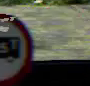Heavy Vehicles: (0, 7, 35, 81)
